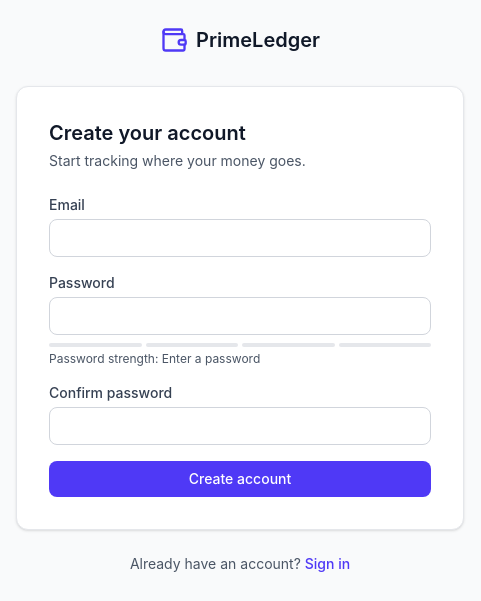
Test case: SignUpPage › rates password strength as it is typed
Type "abcdefgh" into the password field labelled "Password" at (240, 316), box 49,297 -> 431,335
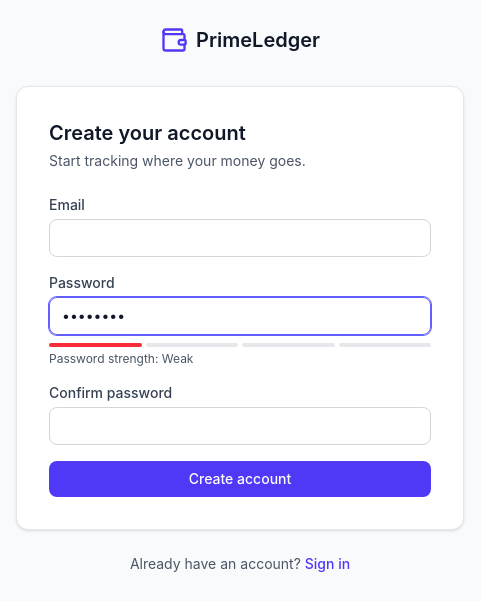
Expected: the text "Password strength: Weak" is shown, 49,351 -> 194,366
Clear the password field labelled "Password" at (240, 316), box 49,297 -> 431,335
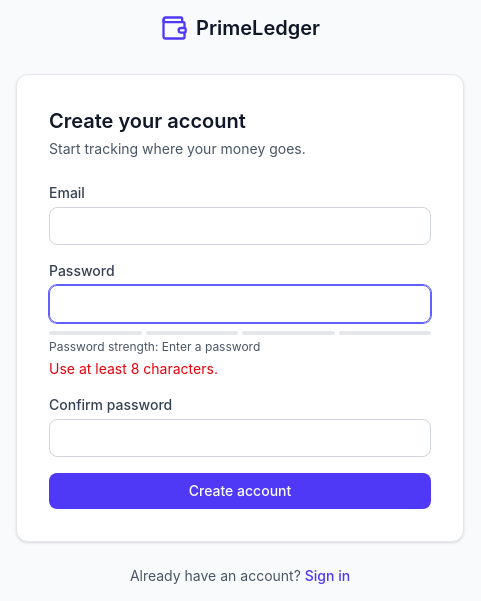
Type "Abcdefgh1234!" into the password field labelled "Password" at (240, 304), box 49,285 -> 431,323
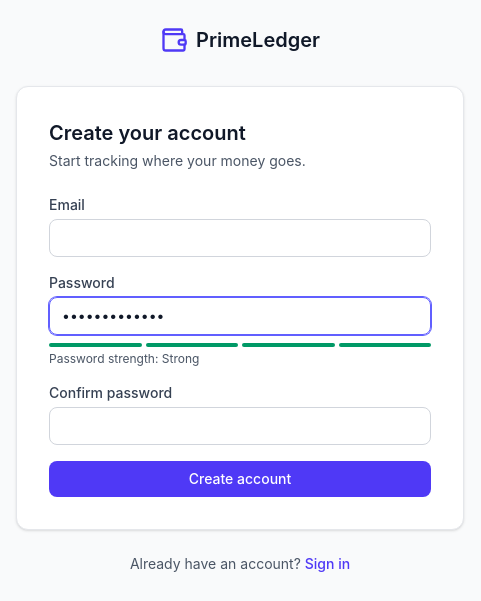
Expected: the text "Password strength: Strong" is shown, 49,351 -> 199,366
